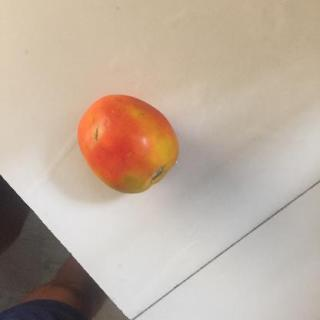Tomat: (71, 93, 194, 197)
